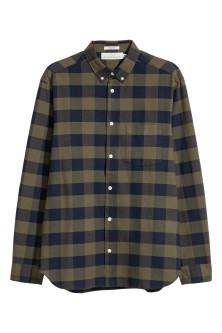teeshirt: (17, 40, 214, 305)
